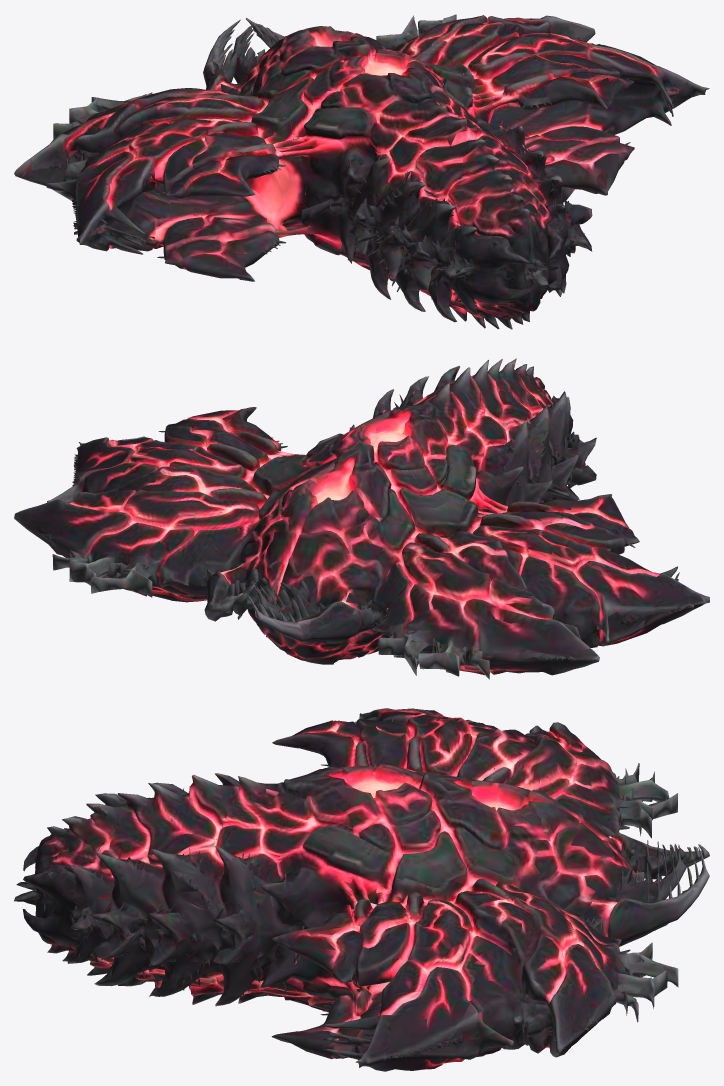
File: vexor-cola-50k.glb
3 renders of one model, top to bottom at view 1: azimuth 30°, elevation 25°; view 2: azimuth 150°, elevation 25°; view 3: azimuth 270°, elevation 25°, orthographic. The views are drawn at different scales.
Visible parts, largest first — view 1: vexor_ala_izq, vexor_cuerpo, vexor_ala_der, vexor_cola_2, vexor_cola_1, vexor_cola_3; view 2: vexor_cuerpo, vexor_ala_izq, vexor_ala_der, vexor_cola_1, vexor_cola_2; view 3: vexor_cuerpo, vexor_ala_der, vexor_ala_izq, vexor_cola_2, vexor_cola_1, vexor_cola_3.
Boxes of the visible parts, bbox=[...] form: vexor_ala_izq: bbox=[14, 88, 310, 281]; vexor_cuerpo: bbox=[199, 18, 524, 281]; vexor_ala_der: bbox=[376, 14, 709, 195]; vexor_cola_2: bbox=[391, 139, 592, 329]; vexor_cola_1: bbox=[354, 105, 567, 321]; vexor_cola_3: bbox=[444, 179, 588, 324]; vexor_cuerpo: bbox=[179, 384, 542, 664]; vexor_ala_izq: bbox=[370, 494, 709, 679]; vexor_ala_der: bbox=[14, 407, 290, 602]; vexor_cola_1: bbox=[379, 367, 578, 502]; vexor_cola_2: bbox=[428, 358, 596, 499]; vexor_cuerpo: bbox=[213, 764, 709, 1012]; vexor_ala_der: bbox=[271, 875, 678, 1071]; vexor_ala_izq: bbox=[272, 708, 677, 889]; vexor_cola_2: bbox=[64, 782, 190, 996]; vexor_cola_1: bbox=[146, 773, 261, 1006]; vexor_cola_3: bbox=[14, 806, 112, 963].
Bounding box in the file's own units: 1.91 × 0.5924 × 1.61.
Materials: 1 (1 with a texture image).
